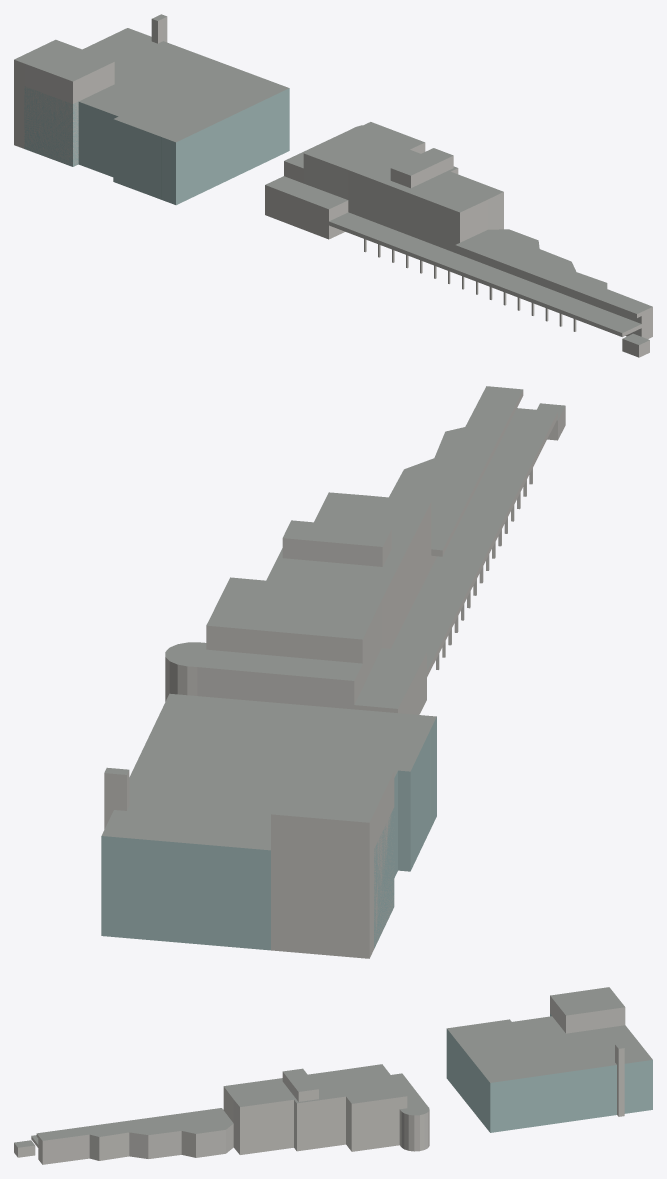
File: gridID_86.dae
3 views of the same model, one above another, from view 1: azimuth 30°, elevation 25°; view 2: azimuth 150°, elevation 25°; view 3: azimuth 270°, elevation 25° (orthographic). The views are drawn at different scales.
Parts seen in each view (by area): view 1: model_gridID_86_w376043952, model_gridID_86_w383794186_002, model_gridID_86_w383794186, model_gridID_86_w383796753; view 2: model_gridID_86_w376043952, model_gridID_86_w383794186_002, model_gridID_86_w383794186; view 3: model_gridID_86_w376043952, model_gridID_86_w383794186_002, model_gridID_86_w383794186, model_gridID_86_w383796753.
Part boxes in pixels (x1,y1,x2,y2): model_gridID_86_w376043952: (14,14,289,205); model_gridID_86_w383794186_002: (265,122,503,254); model_gridID_86_w383794186: (329,212,652,338); model_gridID_86_w383796753: (622,333,649,357); model_gridID_86_w376043952: (101,693,436,958); model_gridID_86_w383794186_002: (165,492,431,714); model_gridID_86_w383794186: (389,386,557,676); model_gridID_86_w376043952: (446,987,652,1132); model_gridID_86_w383794186_002: (223,1064,429,1154); model_gridID_86_w383794186: (31,1108,233,1164); model_gridID_86_w383796753: (14,1140,35,1157).
Size of the model in its own units: 58.83 by 145 by 17.
